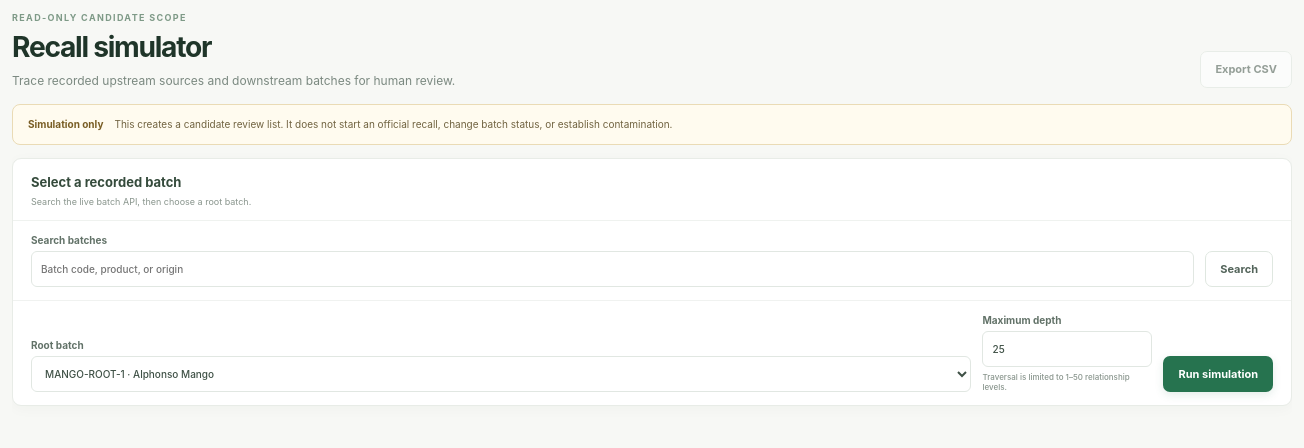
it: RecallSimulatorDashboard › rejects an invalid depth before making the simulation request
Replace the text in the number field with "0" at (1068, 349), box left=982, top=331, right=1152, bottom=367
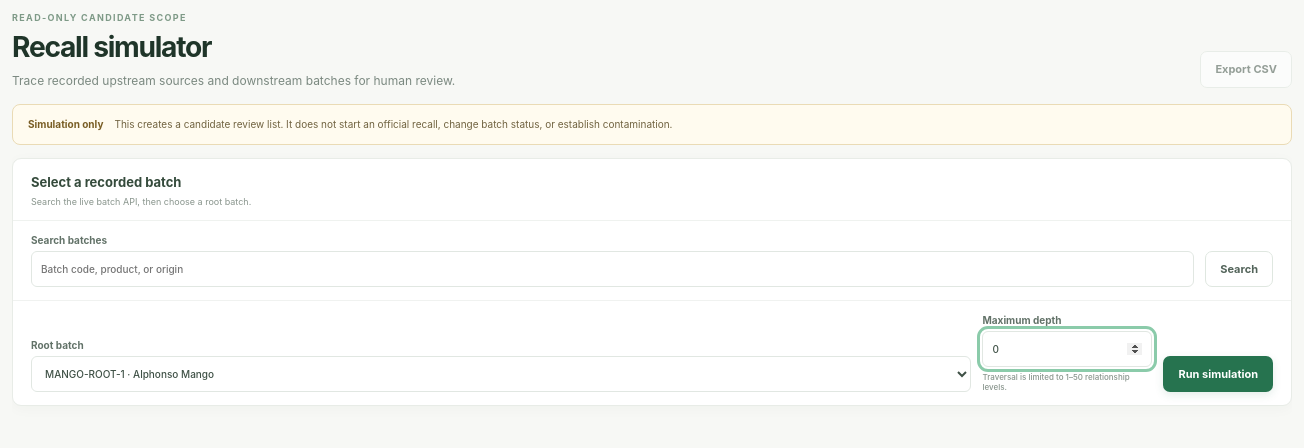
Click the button "Run simulation".
click(1218, 374)  # box left=1164, top=356, right=1273, bottom=392
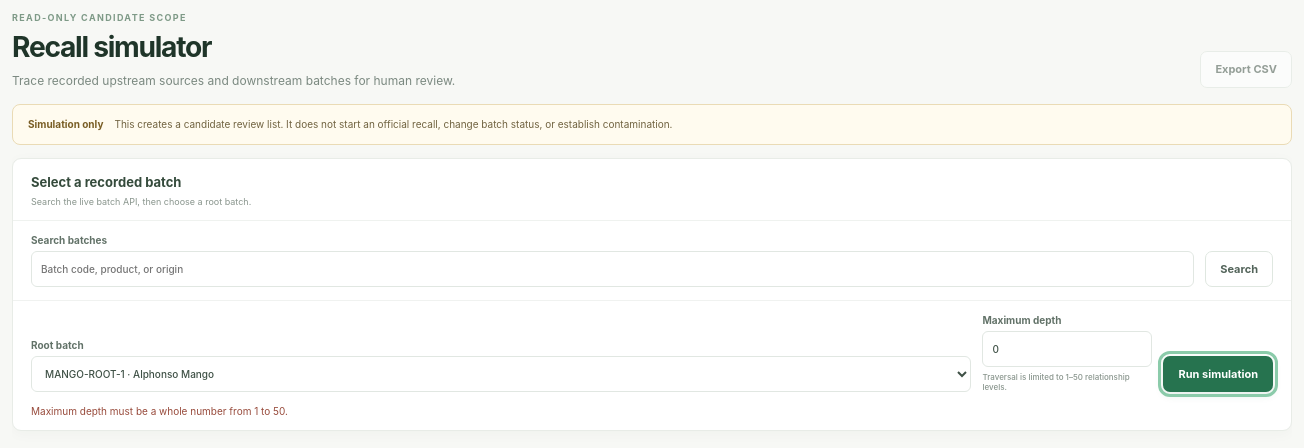
Expected: the message reads "Maximum depth must be a whole number from 1 to 50.", left=31, top=405, right=288, bottom=417
